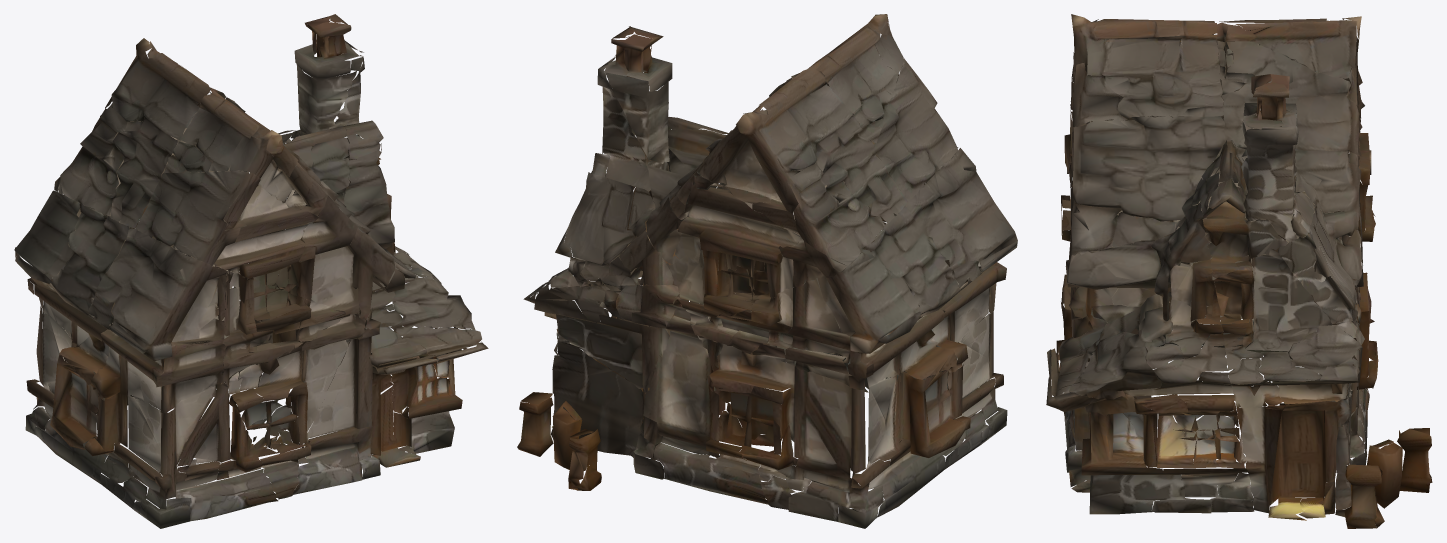
The model's file is bakery.glb.
3 views of the same model, side by side, from view 1: azimuth 30°, elevation 25°; view 2: azimuth 150°, elevation 25°; view 3: azimuth 270°, elevation 25° (orthographic). The views are drawn at different scales.
Visible parts, largest first — view 1: tripo_node_271aa3da-3c4e-443f-abc2-46652f8c3509; view 2: tripo_node_271aa3da-3c4e-443f-abc2-46652f8c3509; view 3: tripo_node_271aa3da-3c4e-443f-abc2-46652f8c3509.
Boxes of the visible parts, box(x1,y1,x2,y2) form: tripo_node_271aa3da-3c4e-443f-abc2-46652f8c3509: box(14, 14, 488, 528); tripo_node_271aa3da-3c4e-443f-abc2-46652f8c3509: box(517, 14, 1017, 528); tripo_node_271aa3da-3c4e-443f-abc2-46652f8c3509: box(1046, 14, 1432, 528).
Size of the model in its own units: 5 by 5.19 by 4.35.
1 material, 1 textured.
